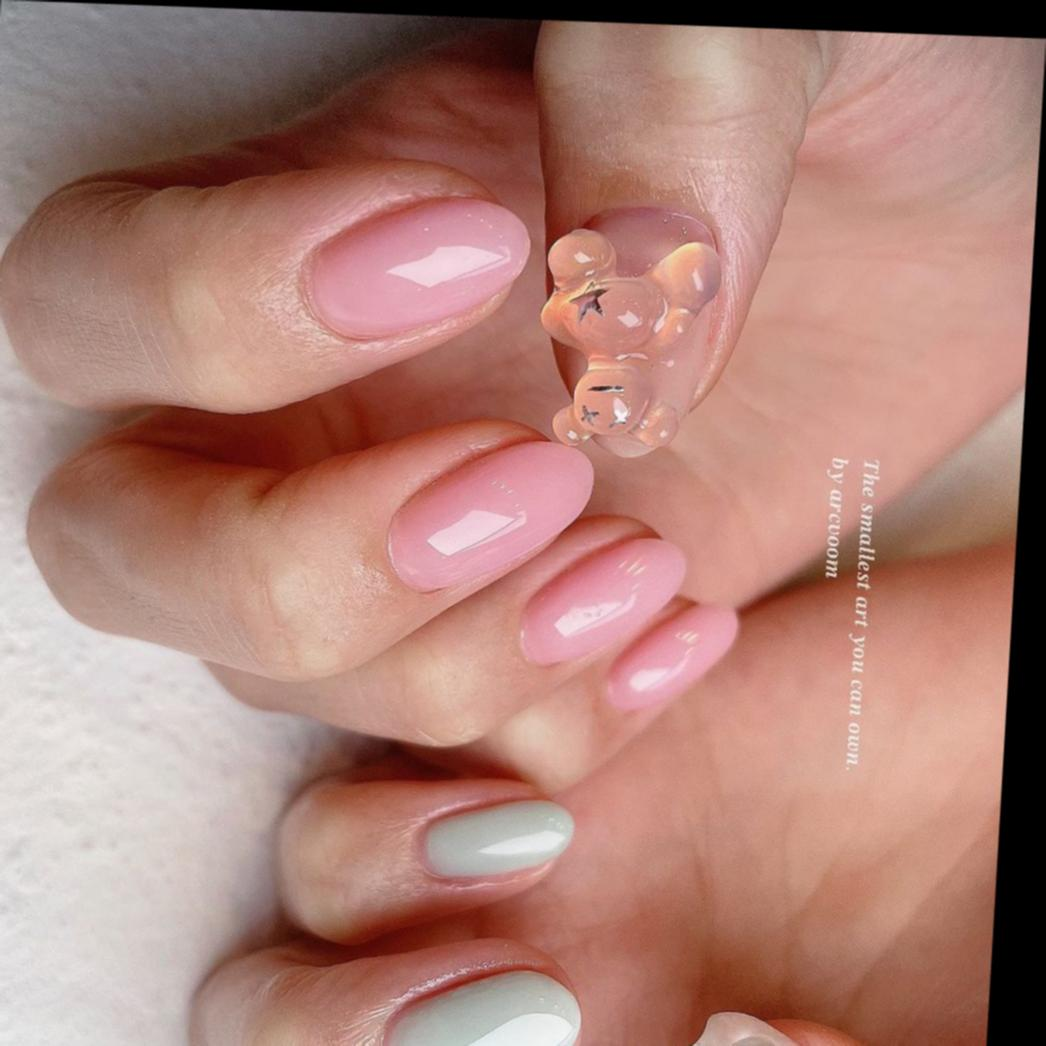nail: (298, 189, 535, 348), (383, 432, 597, 599), (516, 532, 690, 671), (380, 962, 587, 1046), (603, 599, 742, 716), (419, 793, 578, 884)
